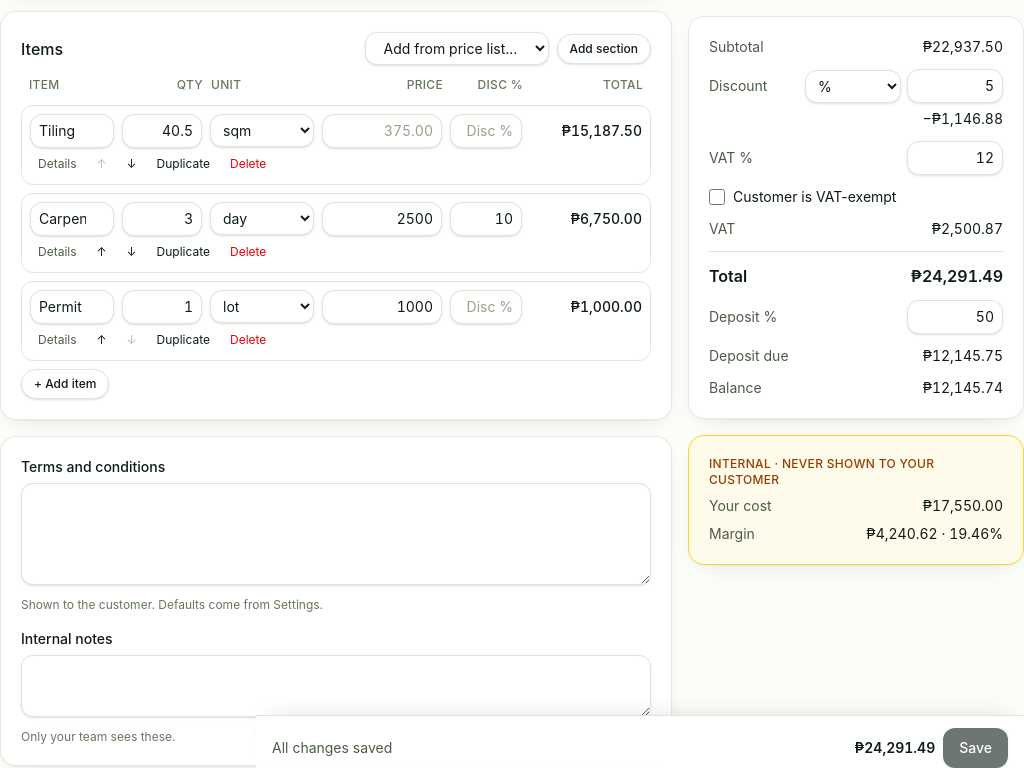
quote builder › fills a line from the price list when the name matches
(page scrolled)
Click the button "+ Add item" at point(65, 384), box [21,369,109,399]
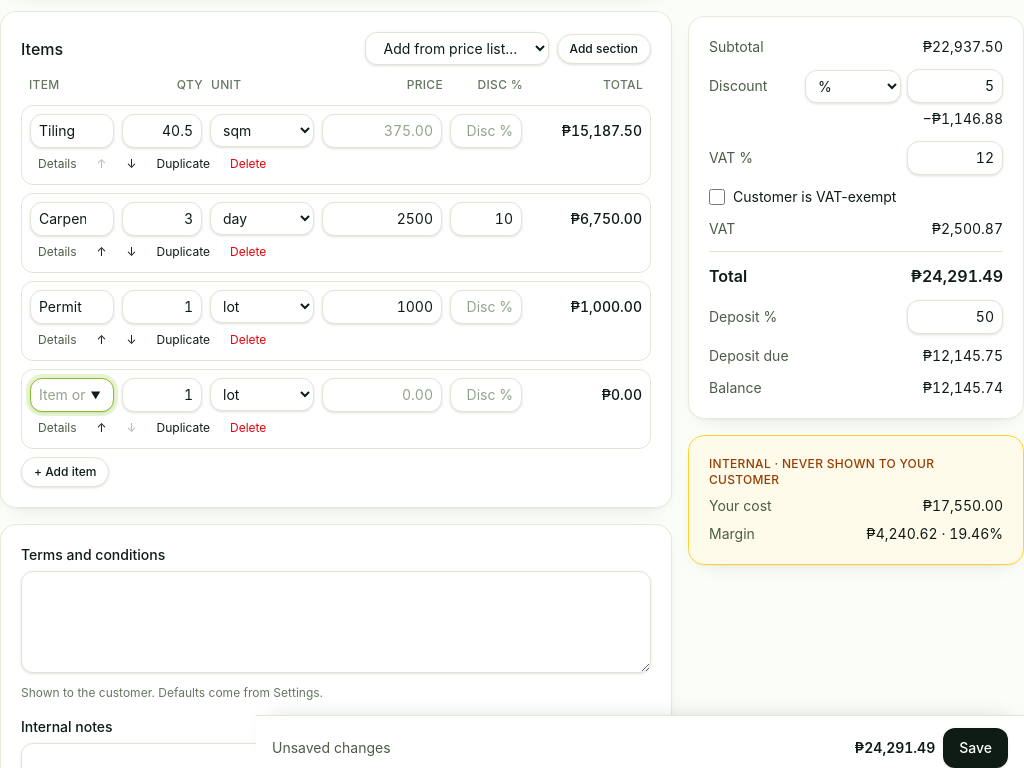
Type "floor tile" into the field named "Item name, line 4" at point(72, 395), box [30,378,114,412]
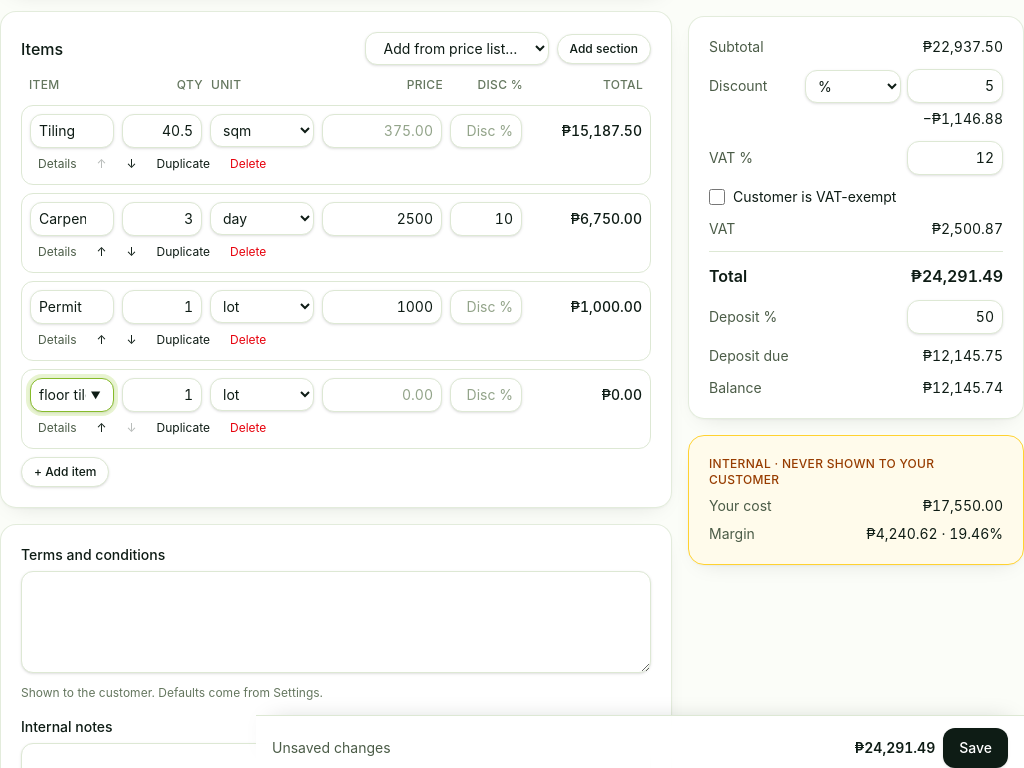
Press Tab
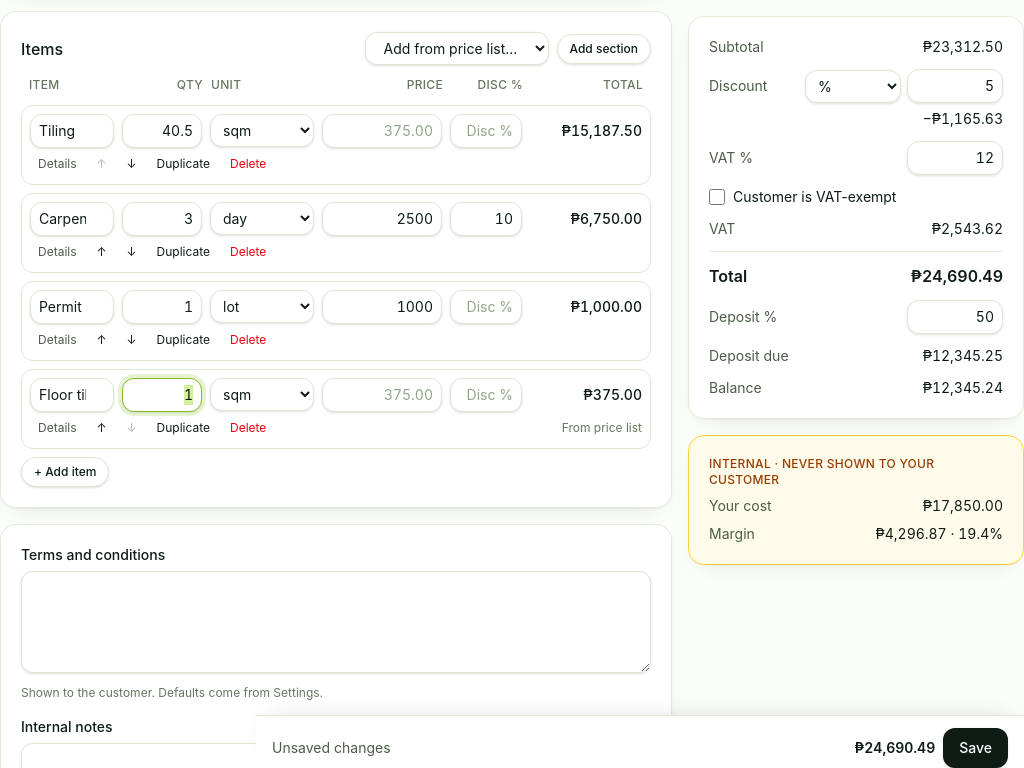
Expected: the dropdown named "Unit, line 4" shows "sqm", [210,378,314,411]
